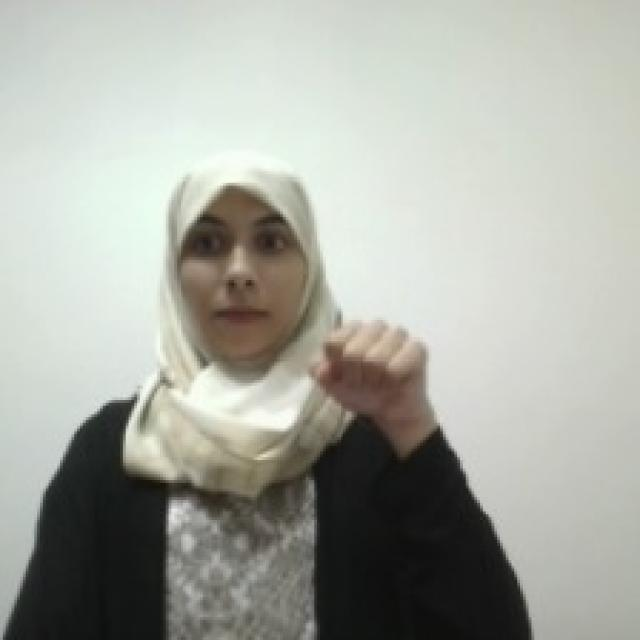yes: (304, 311, 432, 415)
